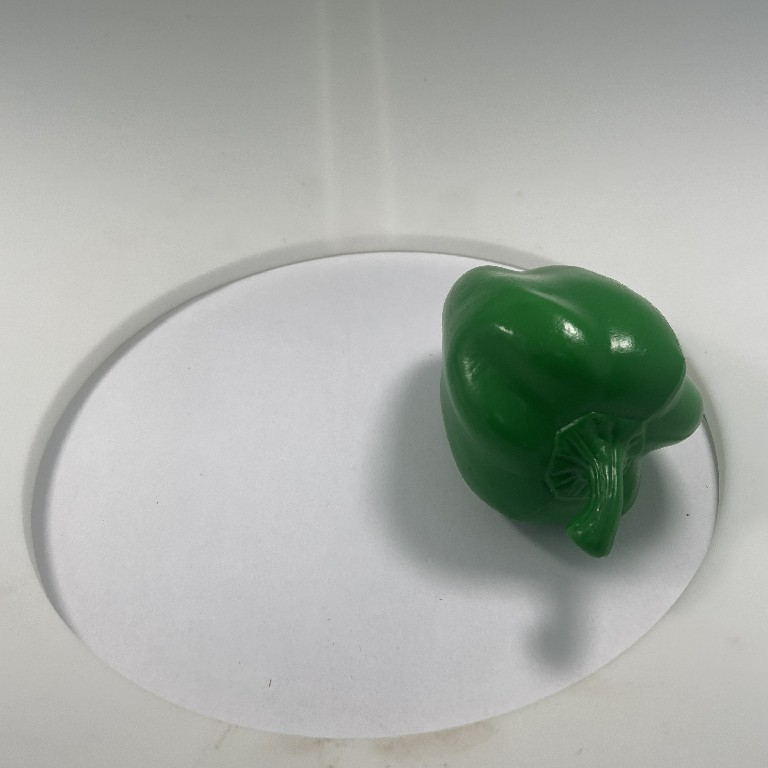fruit_pepper: (436, 261, 708, 565)
